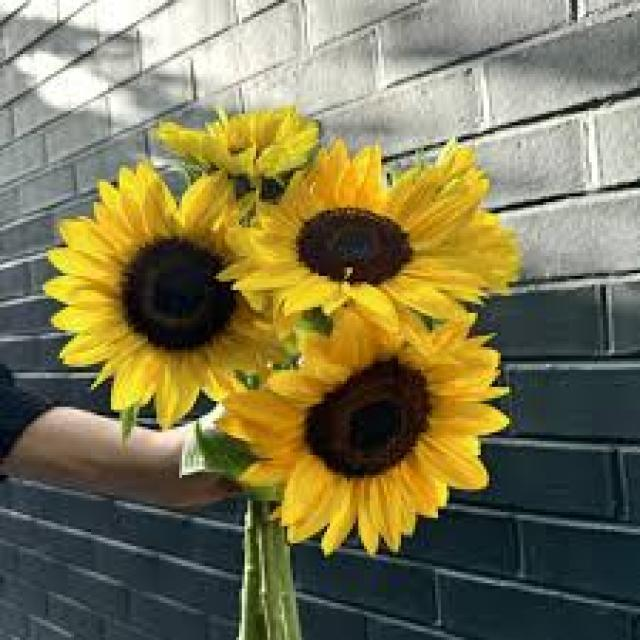sunflower: (216, 298, 509, 558), (40, 160, 279, 430), (216, 133, 520, 344), (154, 108, 318, 180)
